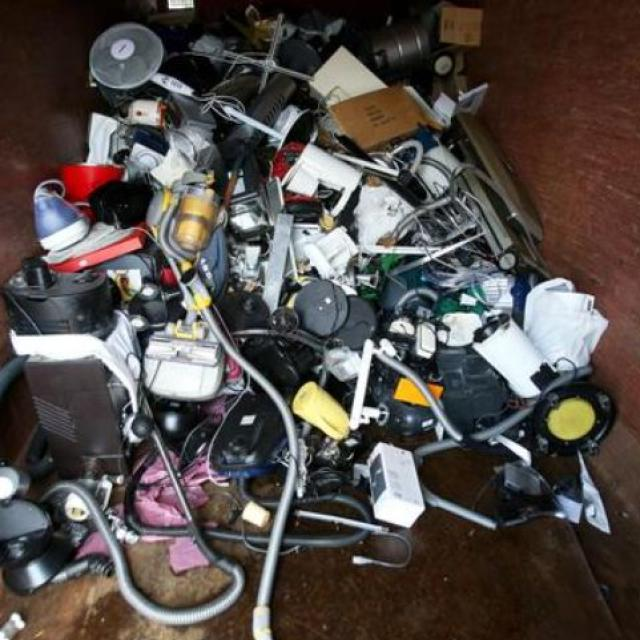electronic: (0, 0, 620, 636), (16, 339, 149, 487), (454, 297, 575, 431), (188, 376, 295, 499), (350, 435, 447, 539), (68, 19, 185, 90), (345, 15, 446, 89), (22, 166, 96, 254)
